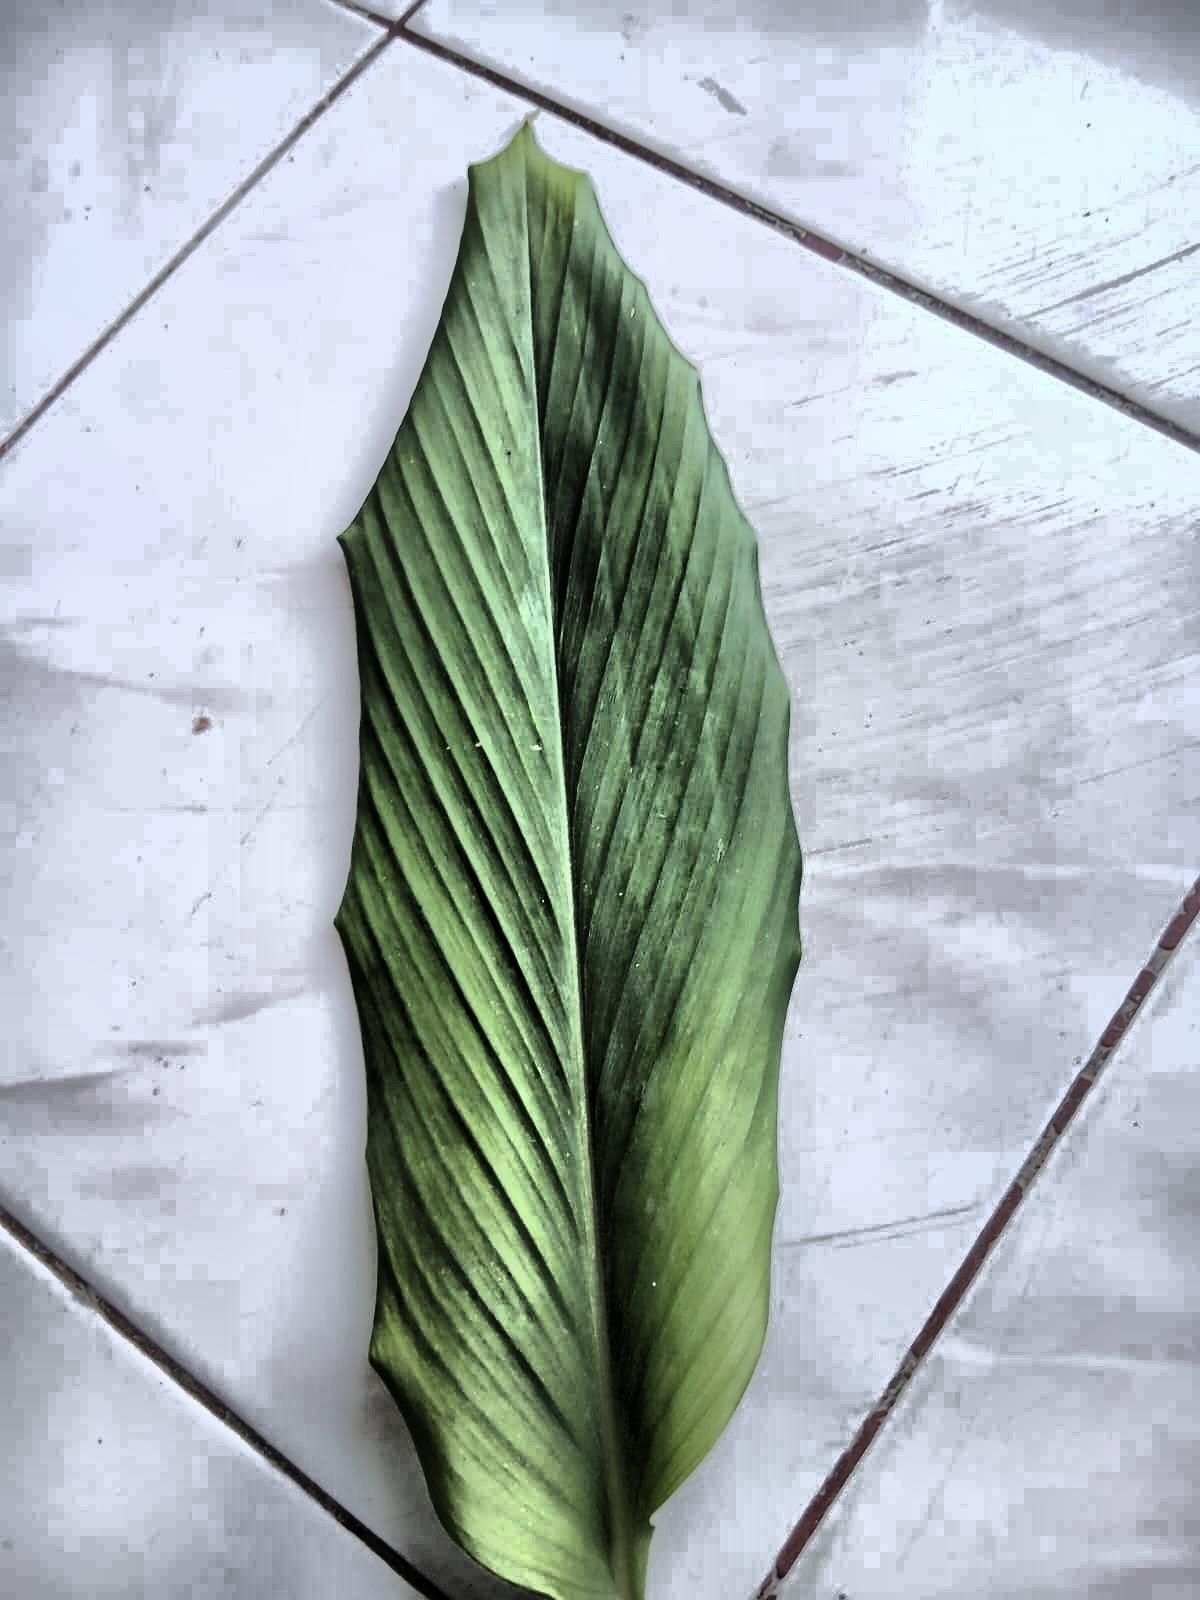daun kunyit: (337, 126, 800, 1599)
